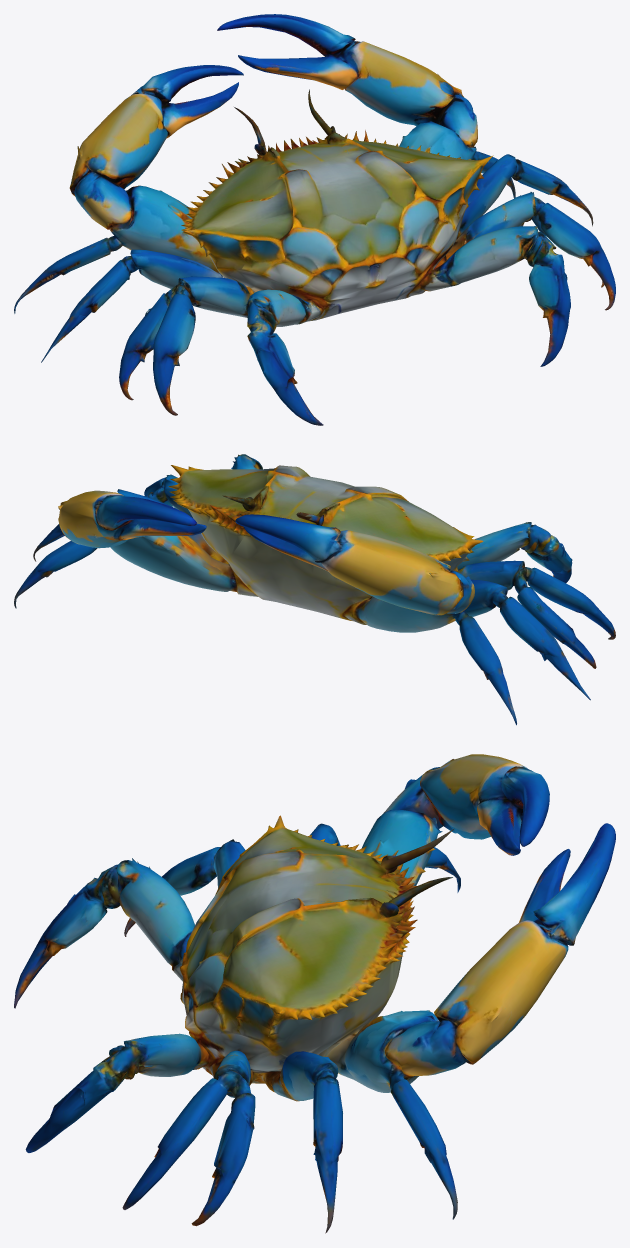
The model's file is blue-crab.glb.
The picture shows the model from 3 angles, top to bottom: view 1: azimuth 30°, elevation 25°; view 2: azimuth 150°, elevation 25°; view 3: azimuth 270°, elevation 25°; orthographic projection. The views are drawn at different scales.
Parts seen in each view (by area): view 1: material; view 2: material; view 3: material.
Boxes of the visible parts, bbox=[...] form: material: bbox=[14, 14, 615, 425]; material: bbox=[14, 454, 615, 725]; material: bbox=[14, 754, 615, 1233].
Size of the model in its own units: 1.15 by 0.4108 by 0.829.
1 material, 1 textured.
